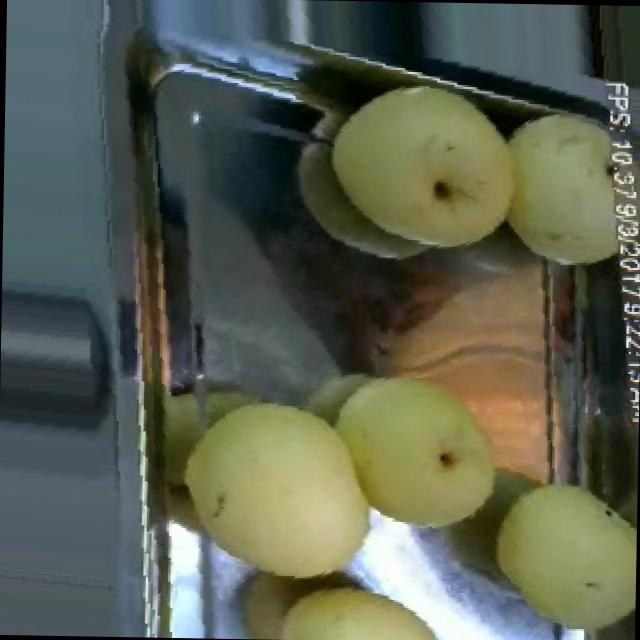Fruit: (300, 70, 542, 282), (168, 380, 388, 600), (473, 462, 637, 640), (484, 99, 626, 281), (230, 568, 467, 640)
